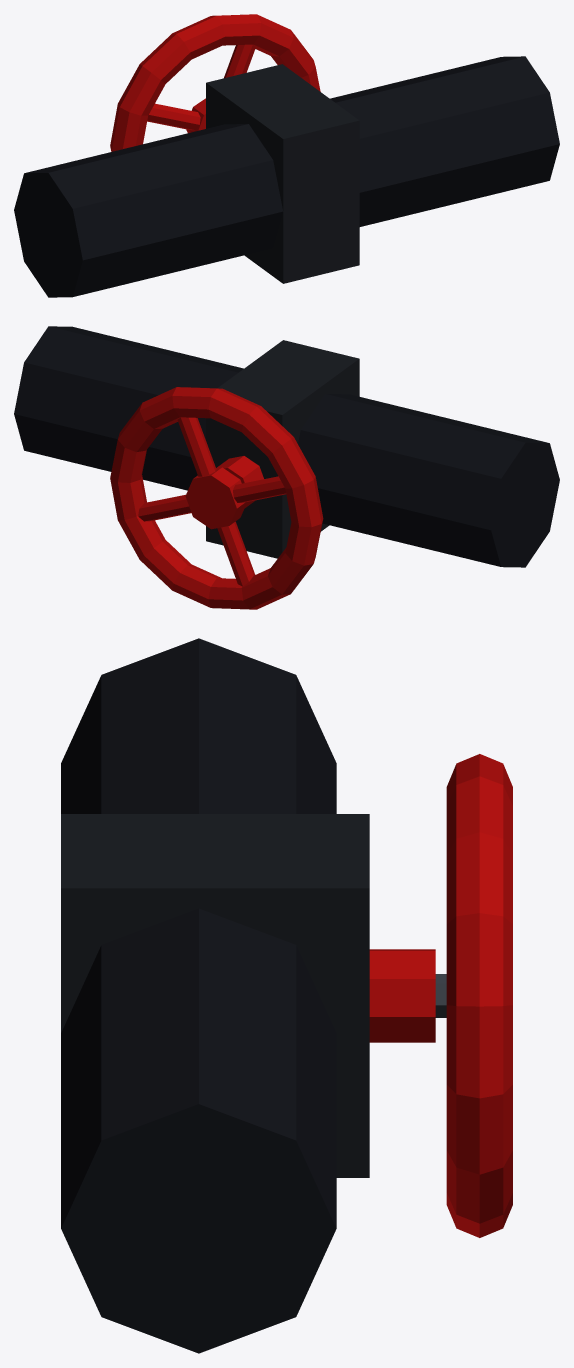
The model's file is DesertOilV2_Run_Pipe_Valve_Side.fbx.
3 views of the same model, one above another, from view 1: azimuth 30°, elevation 25°; view 2: azimuth 150°, elevation 25°; view 3: azimuth 270°, elevation 25° (orthographic). The views are drawn at different scales.
Visible parts, largest first — view 1: DesertOilV2_Run_Pipe_Valve_Side; view 2: DesertOilV2_Run_Pipe_Valve_Side; view 3: DesertOilV2_Run_Pipe_Valve_Side.
Part boxes in pixels (x1,y1,x2,y2): DesertOilV2_Run_Pipe_Valve_Side: (14,14,559,297); DesertOilV2_Run_Pipe_Valve_Side: (14,326,559,609); DesertOilV2_Run_Pipe_Valve_Side: (61,638,512,1353).
Size of the model in its own units: 1 by 0.44 by 0.41.
